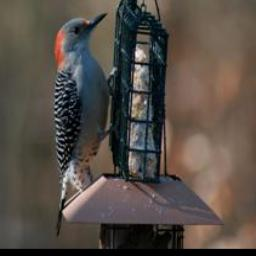Woodpecker: (53, 6, 121, 237)
